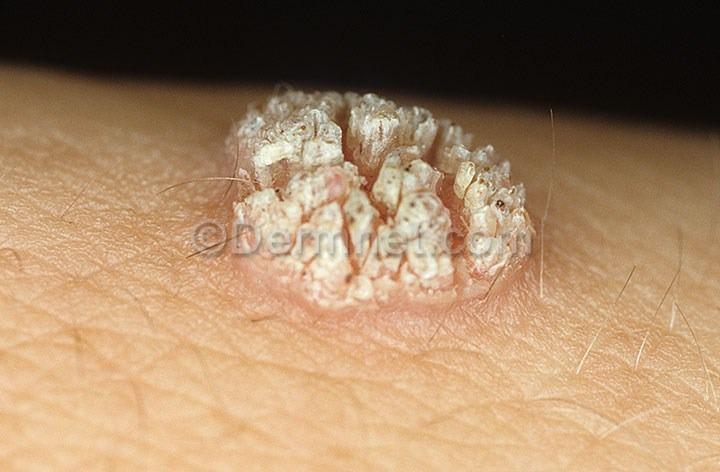Warts: (221, 76, 531, 222)
